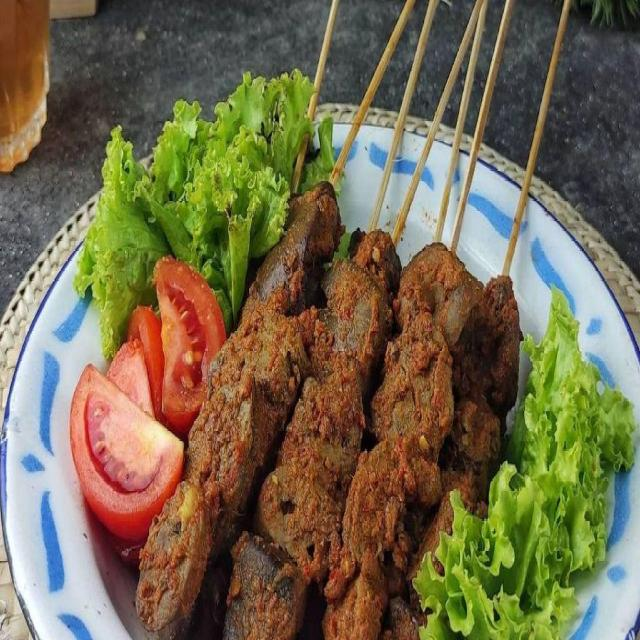Sate: (224, 13, 542, 639)
